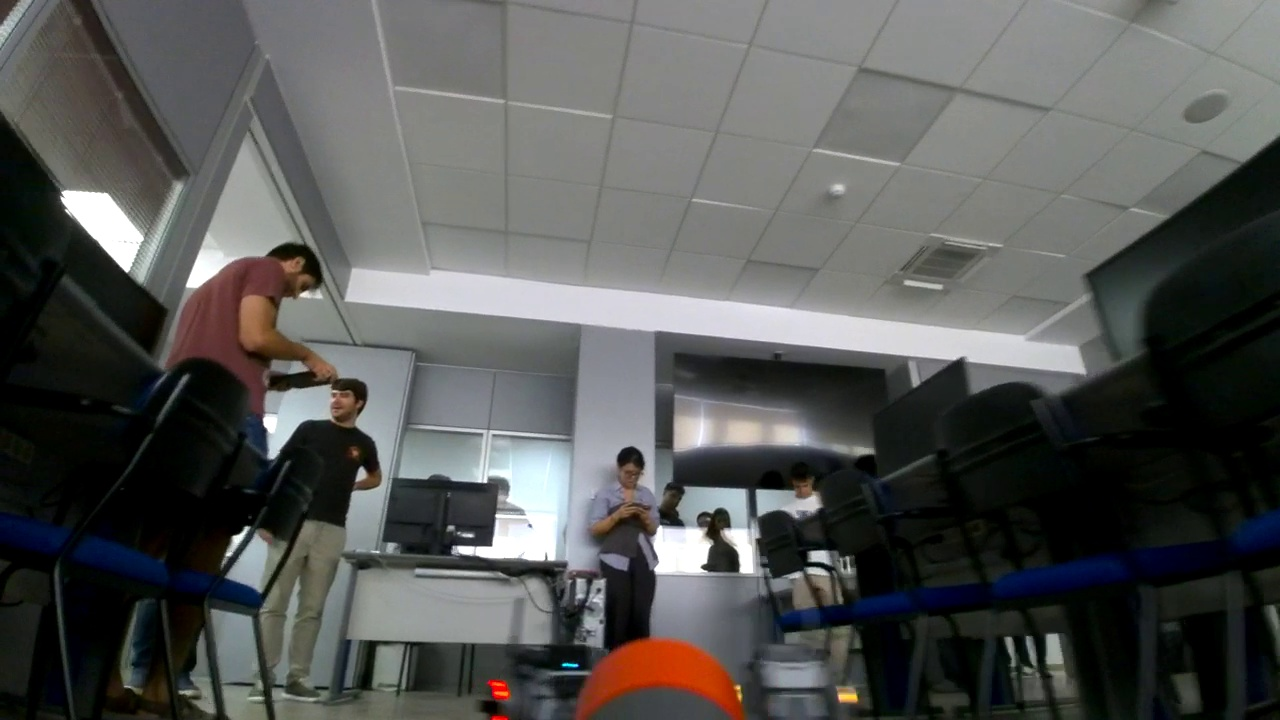robot: (737, 588, 859, 720), (491, 599, 608, 720)
